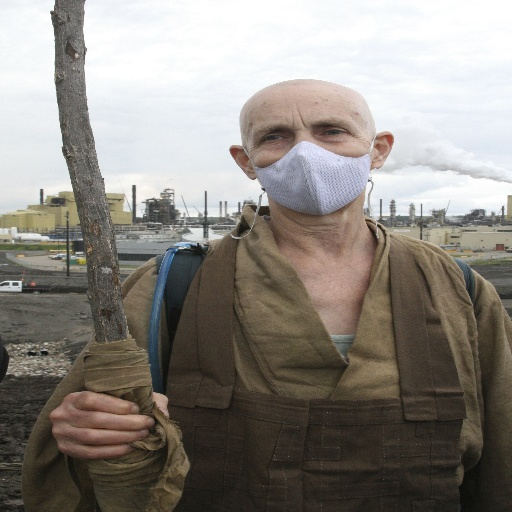hand: (32, 386, 190, 475)
